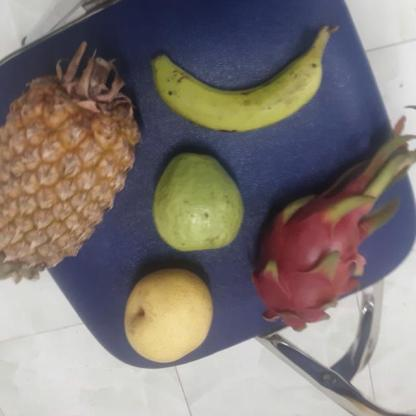banana: (151, 39, 336, 135)
guava: (150, 152, 248, 254)
pear: (124, 266, 218, 362)
pineapple: (0, 54, 141, 268)
pitaya: (252, 198, 368, 330)
